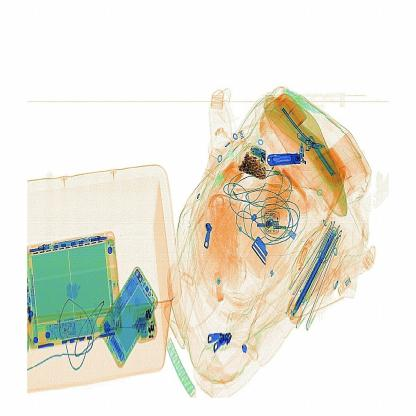knife: (267, 146, 311, 178)
